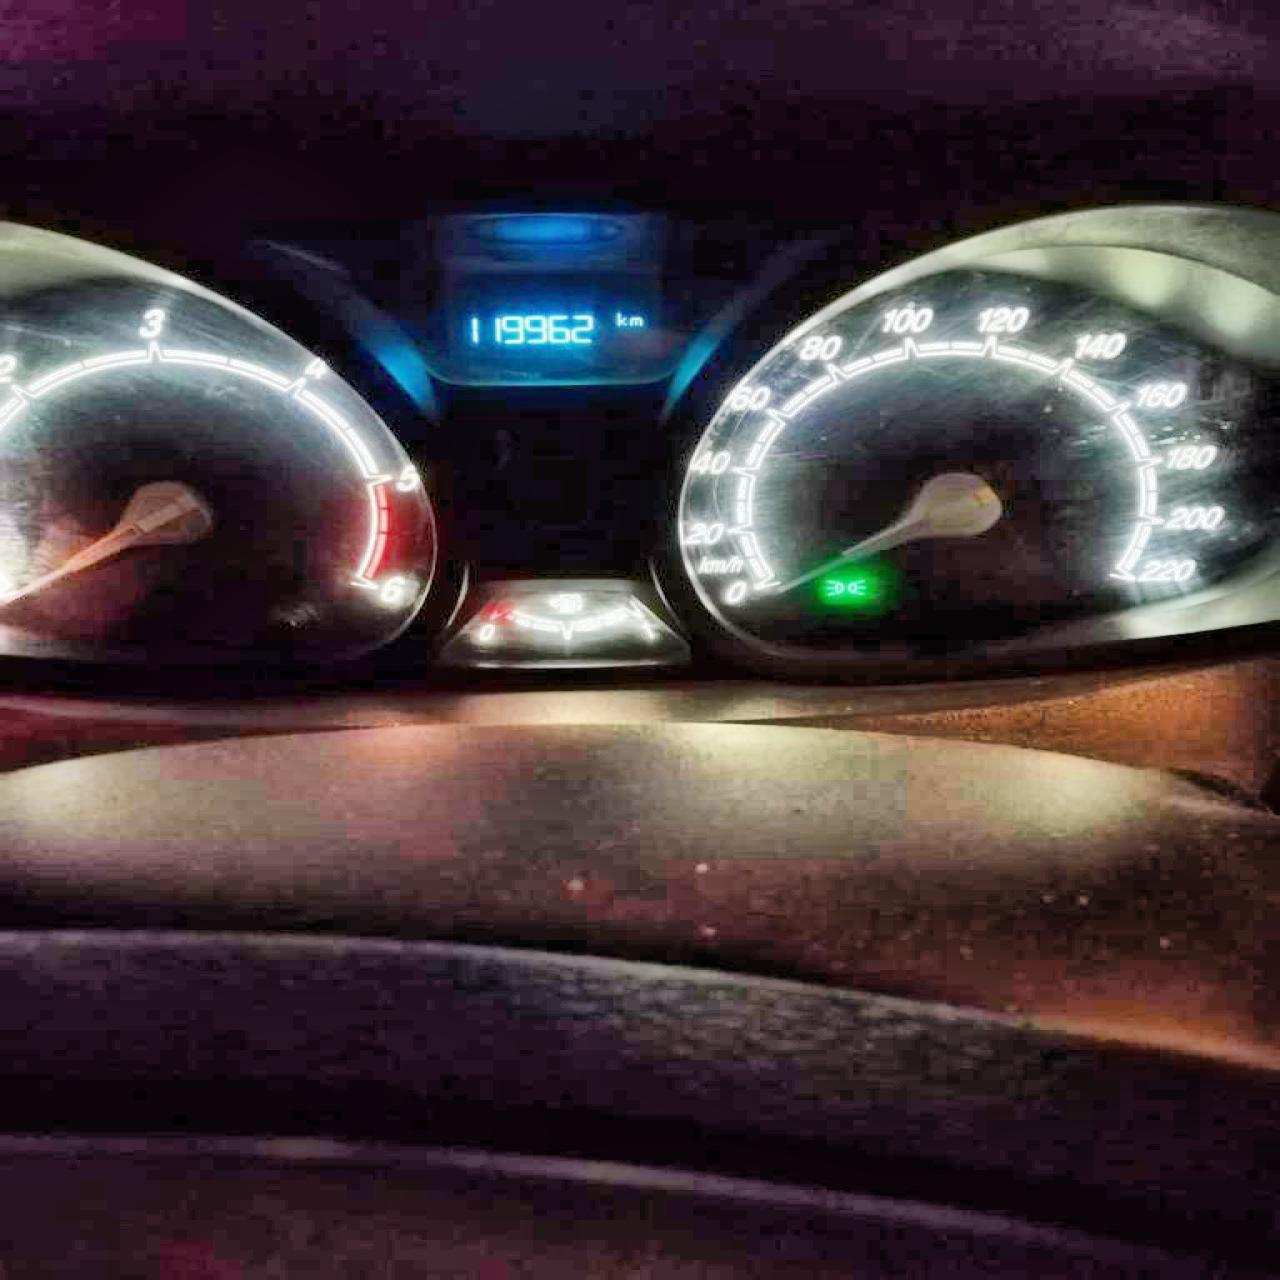1: (468, 314, 479, 346), (490, 314, 501, 345)
2: (570, 313, 593, 343)
6: (546, 313, 568, 343)
9: (523, 313, 546, 343), (502, 313, 522, 346)
X: (615, 309, 625, 326), (628, 314, 641, 326)
odometer: (448, 299, 655, 360)
